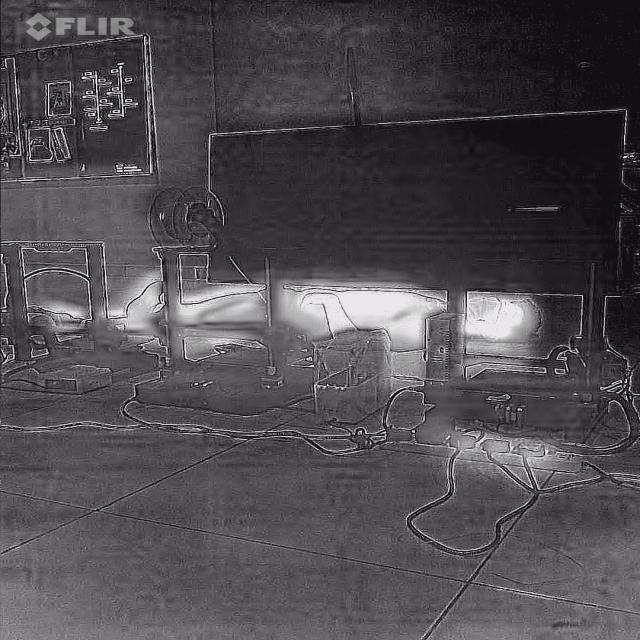Victim: (0, 277, 556, 356)
